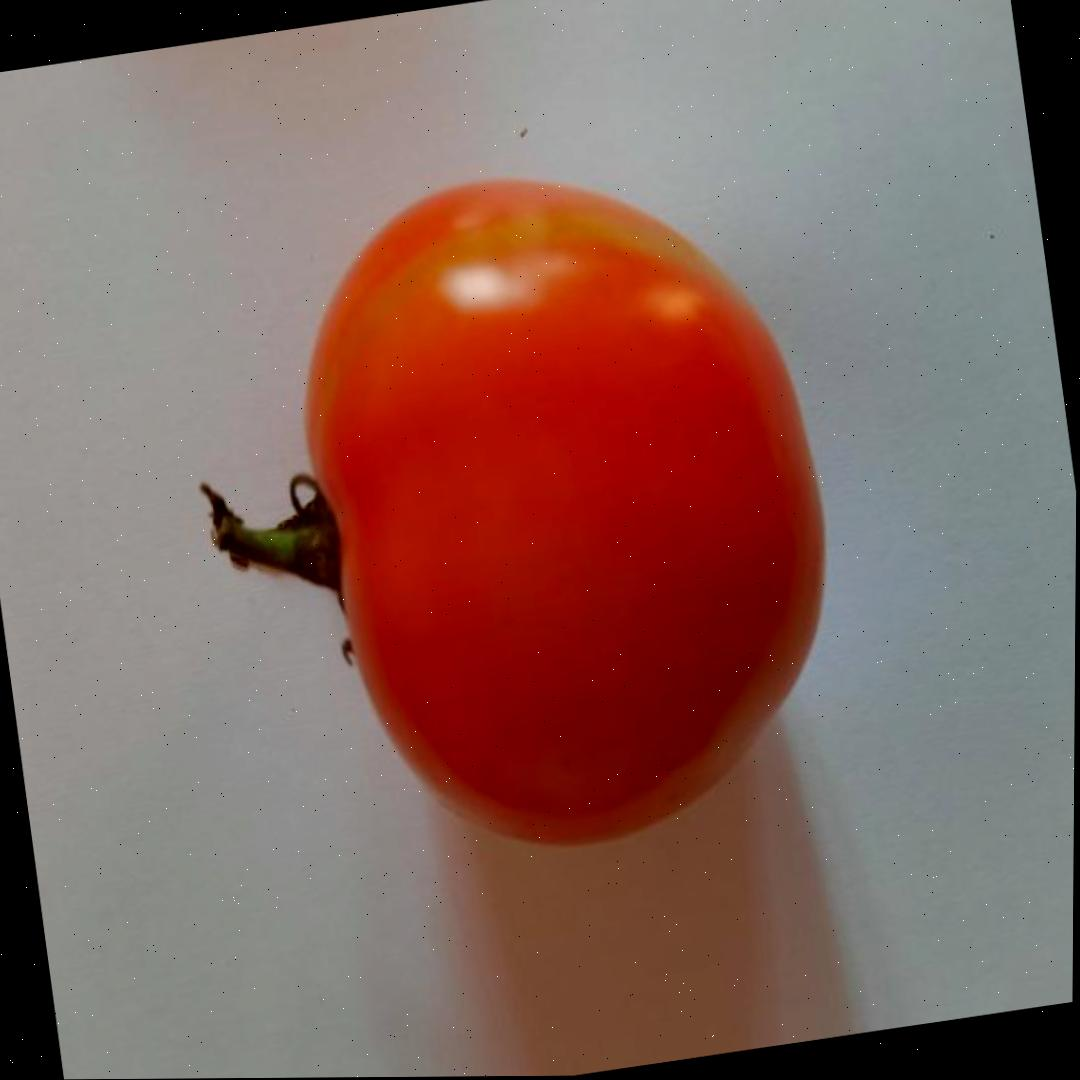matang: (158, 131, 869, 895)
